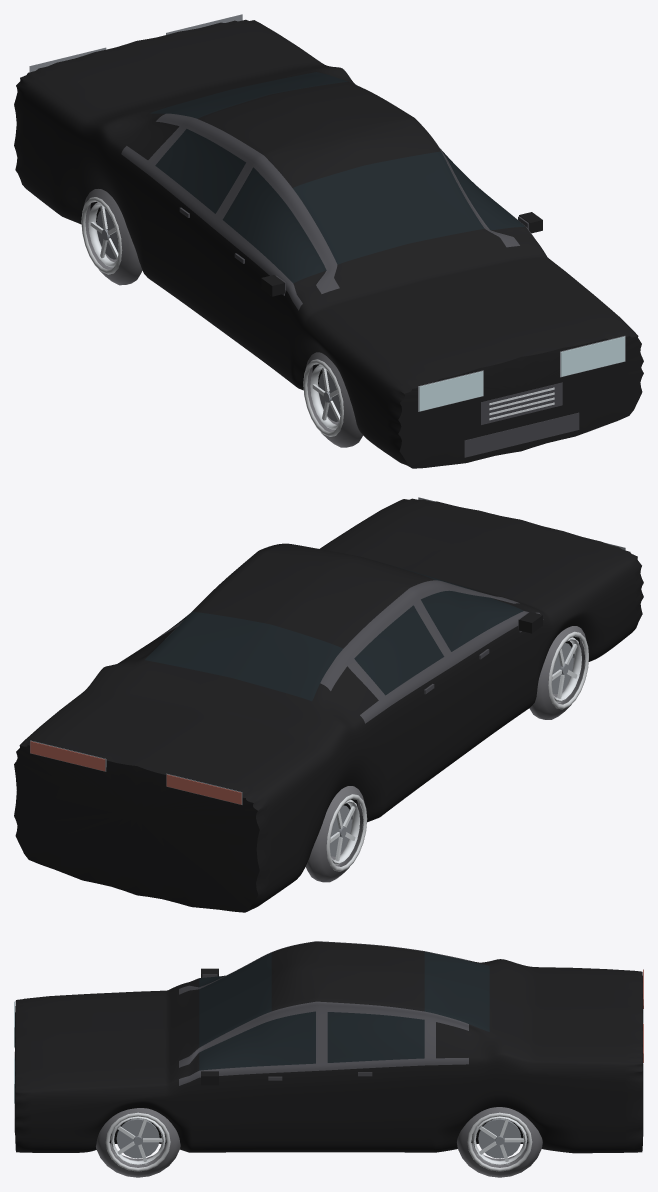
The model's file is Sedan_Mid_A_25_Black.fbx.
3 renders of one model, top to bottom at view 1: azimuth 30°, elevation 25°; view 2: azimuth 150°, elevation 25°; view 3: azimuth 270°, elevation 25°, orthographic. The views are drawn at different scales.
Visible parts, largest first — view 1: LOD0; view 2: LOD0; view 3: LOD0.
Boxes of the visible parts, x1,y1,x2,y2 form: LOD0: (14,14,643,468); LOD0: (14,497,643,912); LOD0: (14,941,643,1177).
Size of what is drawn, in the model's own units: 199 by 144 by 491.
